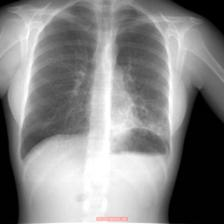tuberculosis: (17, 0, 175, 164)
